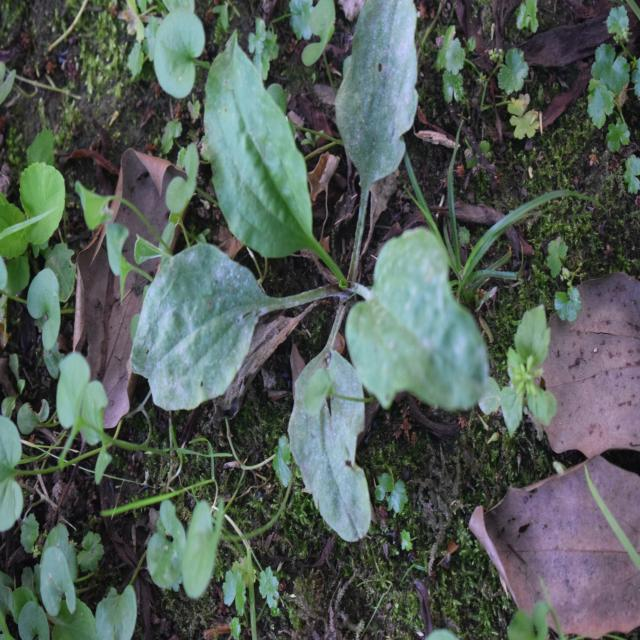plantain: (142, 35, 478, 471)
